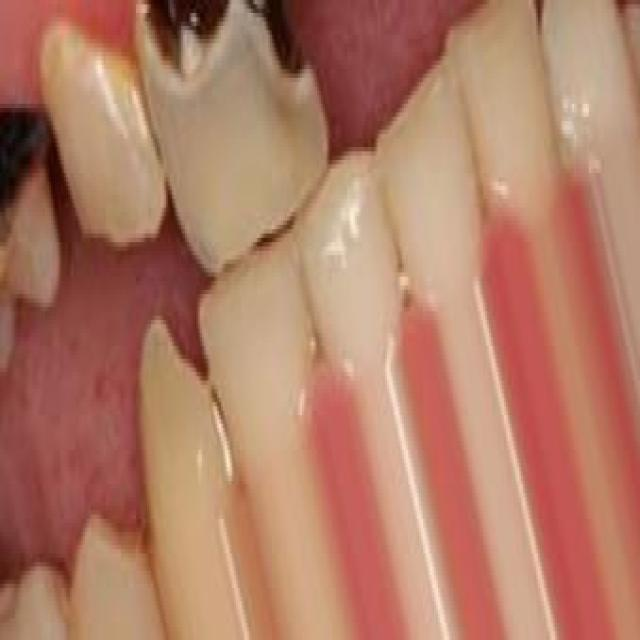caries: (0, 69, 70, 346), (134, 0, 238, 142), (243, 0, 324, 142)
